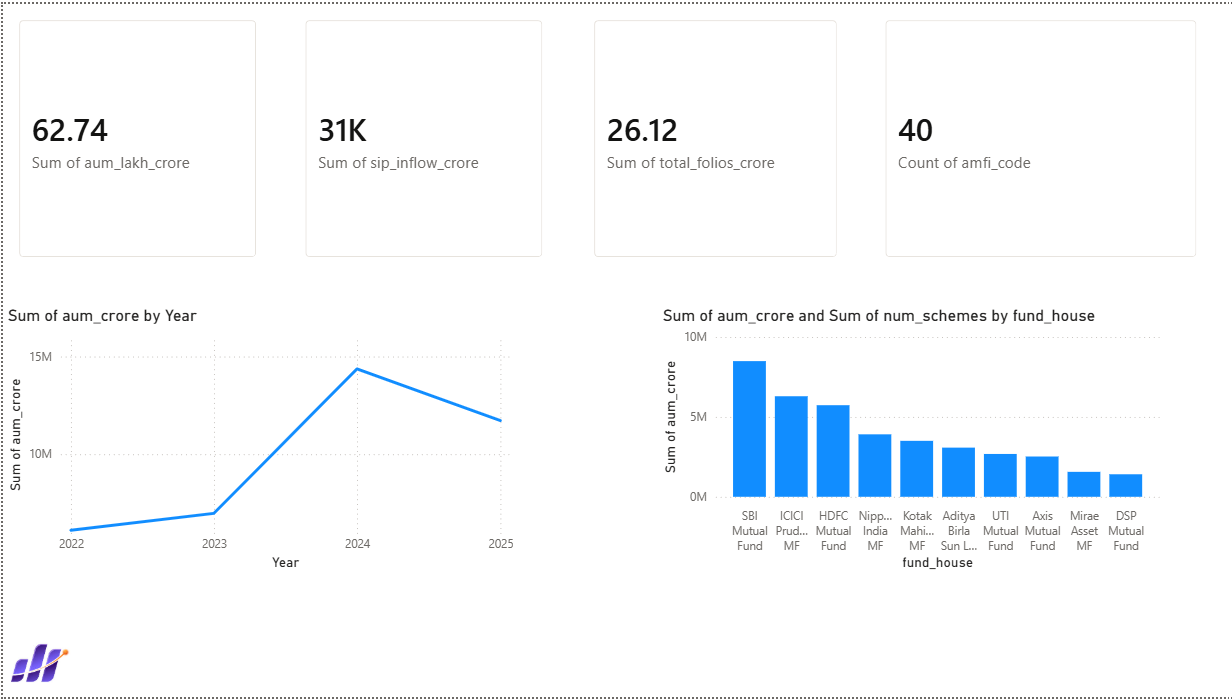

The dashboard page shown, as its layout file describes it:
{"tool":"powerbi","page":{"name":"Industry Overview","canvas":[1280,720],"ordinal":0},"visuals":[{"type":"cardVisual","fields":{"Data":["Sum(04_monthly_sip_inflows.sip_inflow_crore)"]},"box":[297.5,0,280,280],"z":0},{"type":"cardVisual","fields":{"Data":["Sum(06_industry_folio_count.total_folios_crore)"]},"box":[597.5,0,286.2,280],"z":1000},{"type":"cardVisual","fields":{"Data":["Sum(03_aum_by_fund_house.aum_lakh_crore)"]},"box":[0,0,280,280],"z":2000},{"type":"cardVisual","fields":{"Data":["Count(01_fund_master.amfi_code)"]},"box":[900,0,357.5,280],"z":3000},{"type":"lineChart","fields":{"Category":["03_aum_by_fund_house.date.Variation.Date Hierarchy.Year","03_aum_by_fund_house.date.Variation.Date Hierarchy.Quarter","03_aum_by_fund_house.date.Variation.Date Hierarchy.Month","03_aum_by_fund_house.date.Variation.Date Hierarchy.Day"],"Y":["Sum(03_aum_by_fund_house.aum_crore)"]},"box":[0,312.5,535,280],"z":4000},{"type":"clusteredColumnChart","fields":{"Category":["03_aum_by_fund_house.fund_house"],"Y":["Sum(03_aum_by_fund_house.aum_crore)"]},"box":[680,312.5,526.2,280],"z":5000},{"type":"image","box":[0,647.5,73.8,72.5],"z":6000}]}

Visuals, with their boxes in screenshot pixels (x1, y1, x2, y2), scaled from the page's 1280x720 canvas onto the 1232x700 screenshot:
cardVisual - Sum(04_monthly_sip_inflows.sip_inflow_crore): Rect(286, 0, 556, 272)
cardVisual - Sum(06_industry_folio_count.total_folios_crore): Rect(575, 0, 851, 272)
cardVisual - Sum(03_aum_by_fund_house.aum_lakh_crore): Rect(0, 0, 270, 272)
cardVisual - Count(01_fund_master.amfi_code): Rect(866, 0, 1210, 272)
lineChart - 03_aum_by_fund_house.date.Variation.Date Hierarchy.Year x 03_aum_by_fund_house.date.Variation.Date Hierarchy.Quarter: Rect(0, 304, 515, 576)
clusteredColumnChart - 03_aum_by_fund_house.fund_house x Sum(03_aum_by_fund_house.aum_crore): Rect(654, 304, 1161, 576)
image: Rect(0, 630, 71, 699)
